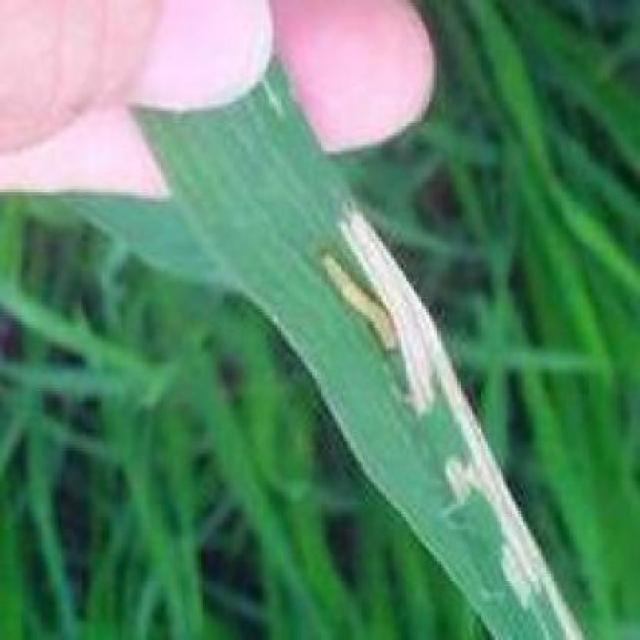leaf-folder: (308, 232, 410, 394)
